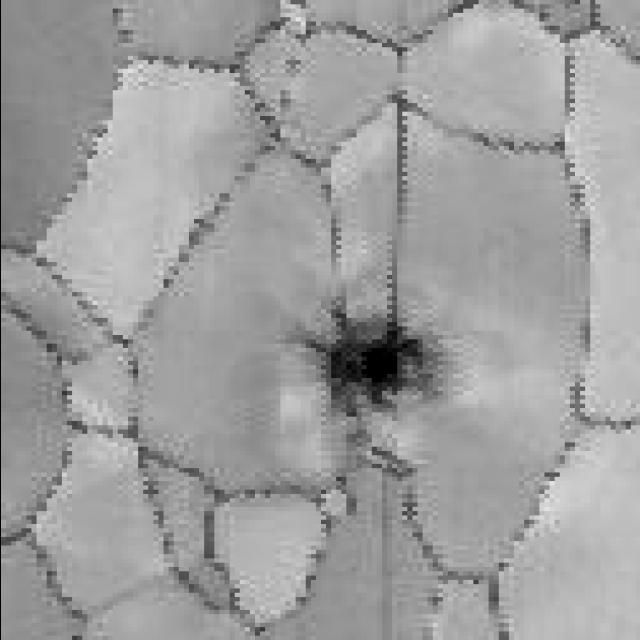good_void: (306, 311, 431, 423)
